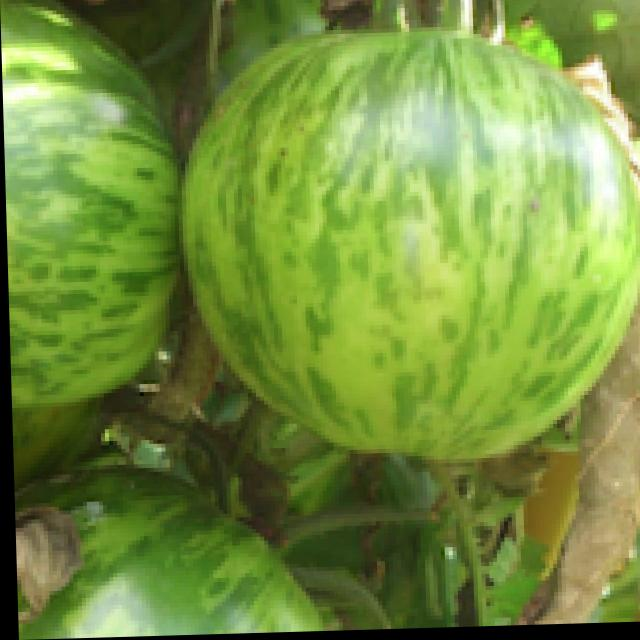yesil: (164, 5, 640, 485)
